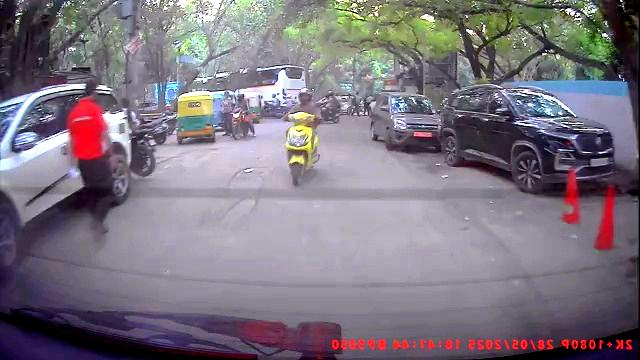motorcycle_with_helmet: (282, 88, 322, 188)
